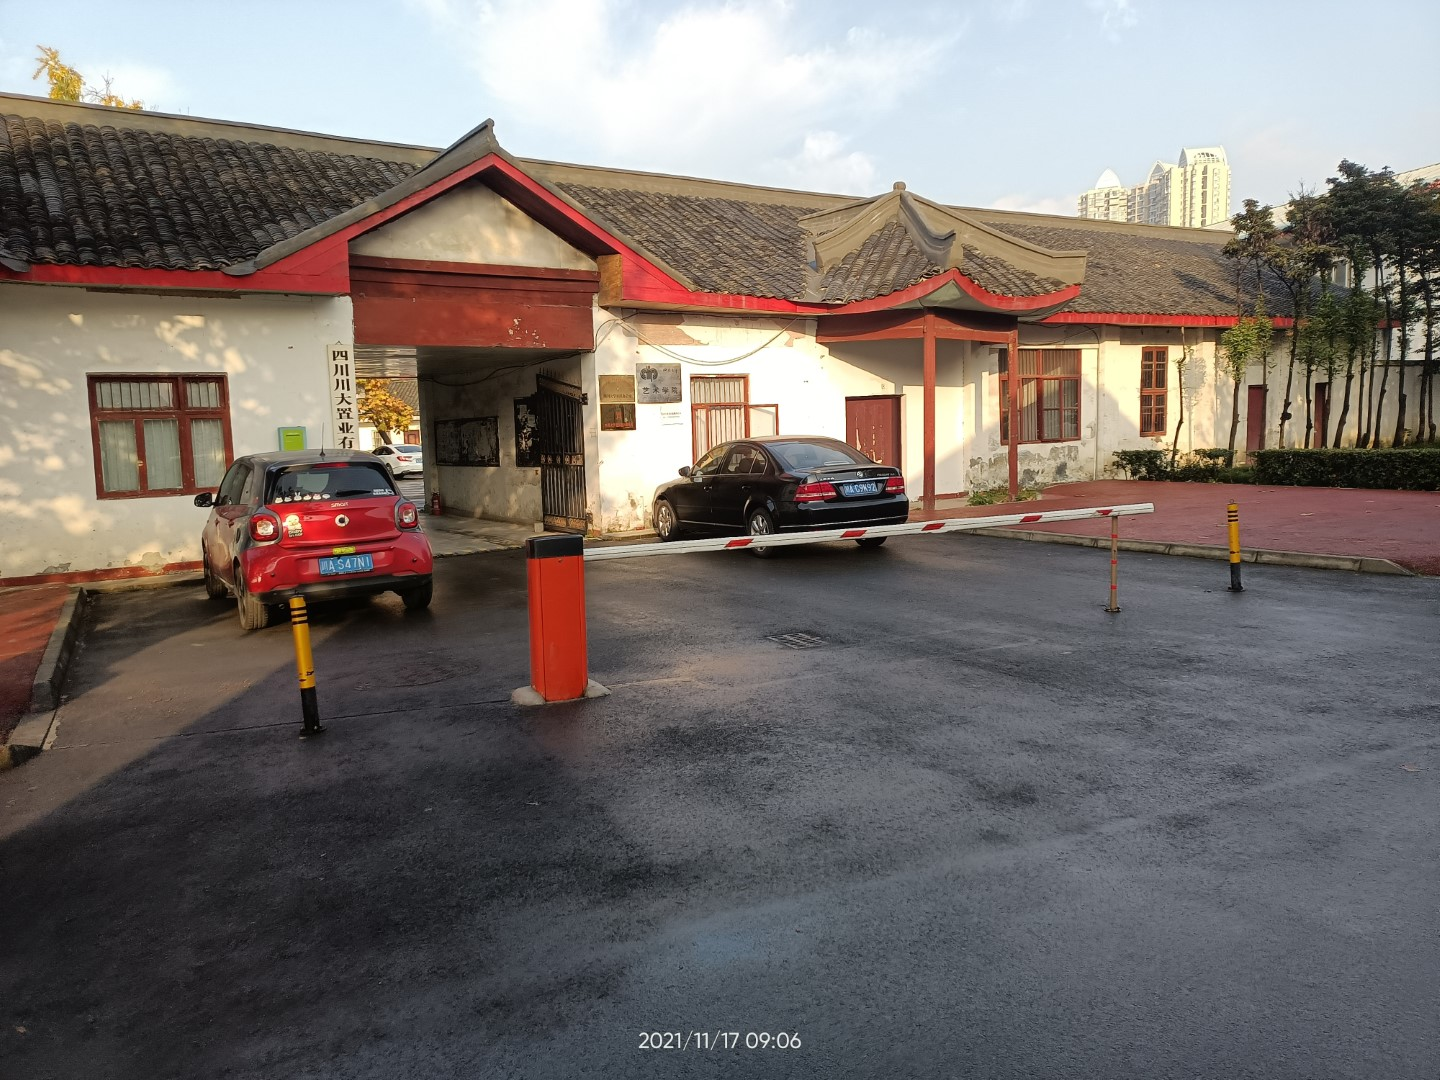plate: (317, 552, 373, 576), (842, 480, 880, 496)
